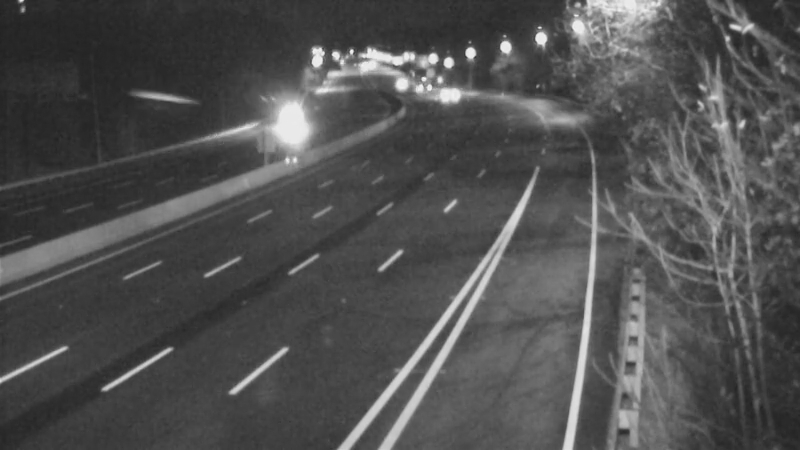vehicle: (376, 59, 426, 109), (392, 61, 442, 111), (423, 67, 473, 117), (269, 93, 319, 143)
